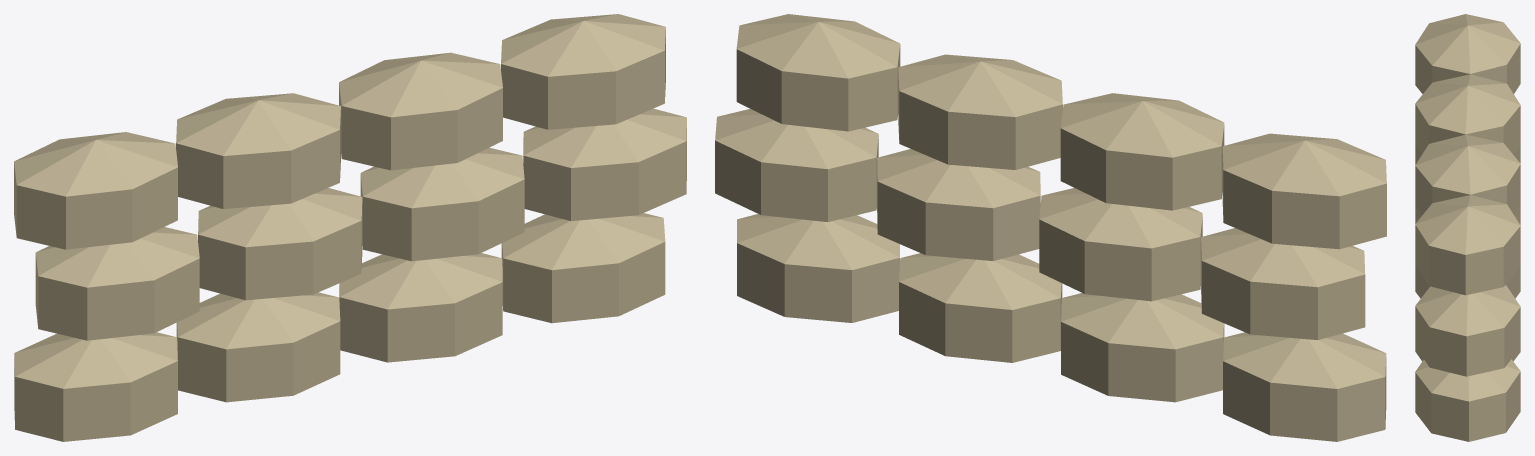
The model's file is cover_sandbags_a.glb.
3 views of the same model, side by side, from view 1: azimuth 30°, elevation 25°; view 2: azimuth 150°, elevation 25°; view 3: azimuth 270°, elevation 25° (orthographic). The views are drawn at different scales.
Visible parts, largest first — view 1: LOD0; view 2: LOD0; view 3: LOD0.
Boxes of the visible parts, left/top/right/bottom form: LOD0: left=14, top=14, right=686, bottom=441; LOD0: left=715, top=14, right=1386, bottom=441; LOD0: left=1415, top=14, right=1520, bottom=441.
Bounding box in the file's own units: 2.48 × 1.04 × 0.4441.
